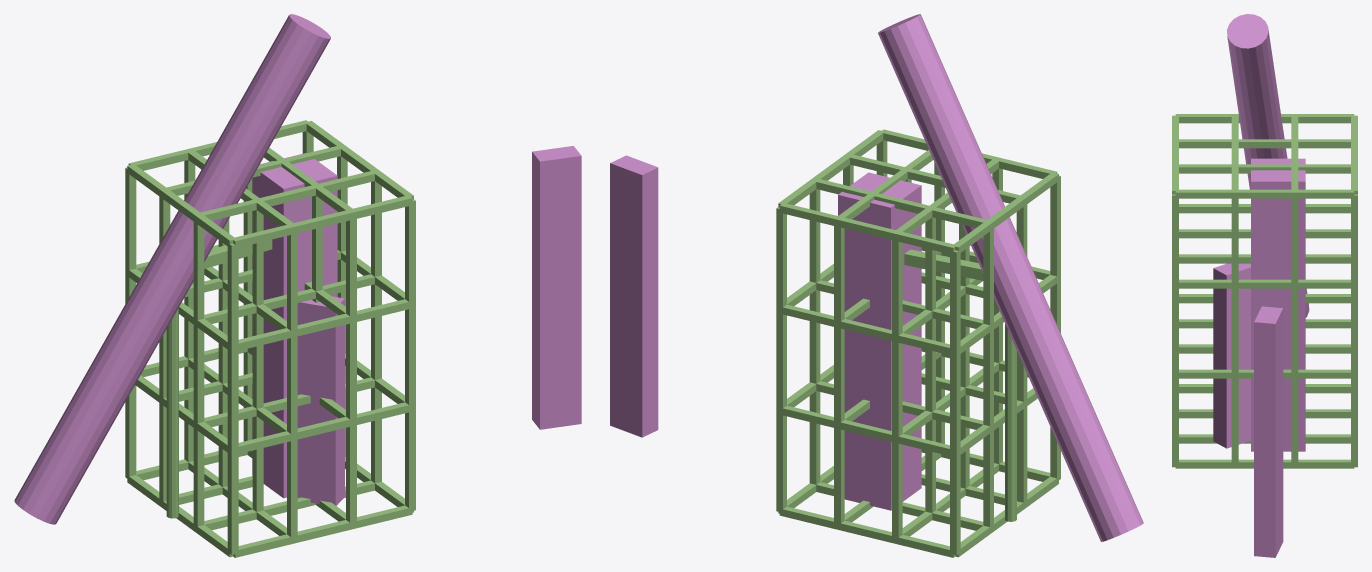
The model's file is folie_tag_142.glb.
The picture shows the model from 3 angles, left to right: view 1: azimuth 30°, elevation 25°; view 2: azimuth 150°, elevation 25°; view 3: azimuth 270°, elevation 25°; orthographic projection. The views are drawn at different scales.
Visible parts, largest first — view 1: folie_tag_142_00_cage, folie_tag_142_01_tube, folie_tag_142_02_fin, folie_tag_142_core, folie_tag_142_03_fin, folie_tag_142_line; view 2: folie_tag_142_00_cage, folie_tag_142_01_tube, folie_tag_142_core, folie_tag_142_02_fin, folie_tag_142_line; view 3: folie_tag_142_00_cage, folie_tag_142_core, folie_tag_142_02_fin, folie_tag_142_01_tube, folie_tag_142_03_fin.
Boxes of the visible parts, x1,y1,x2,y2 form: folie_tag_142_00_cage: [125, 120, 415, 557]; folie_tag_142_01_tube: [14, 14, 330, 524]; folie_tag_142_02_fin: [532, 146, 581, 429]; folie_tag_142_core: [252, 153, 337, 498]; folie_tag_142_03_fin: [297, 296, 344, 505]; folie_tag_142_line: [166, 239, 272, 518]; folie_tag_142_00_cage: [776, 129, 1060, 557]; folie_tag_142_01_tube: [878, 14, 1143, 541]; folie_tag_142_core: [838, 172, 921, 510]; folie_tag_142_02_fin: [610, 155, 658, 437]; folie_tag_142_line: [904, 249, 1016, 521]; folie_tag_142_00_cage: [1172, 114, 1357, 468]; folie_tag_142_core: [1251, 158, 1305, 451]; folie_tag_142_02_fin: [1254, 306, 1283, 557]; folie_tag_142_01_tube: [1227, 14, 1309, 317]; folie_tag_142_03_fin: [1213, 263, 1250, 448].
Size of the model in its own units: 11.14 by 9.35 by 3.74.
